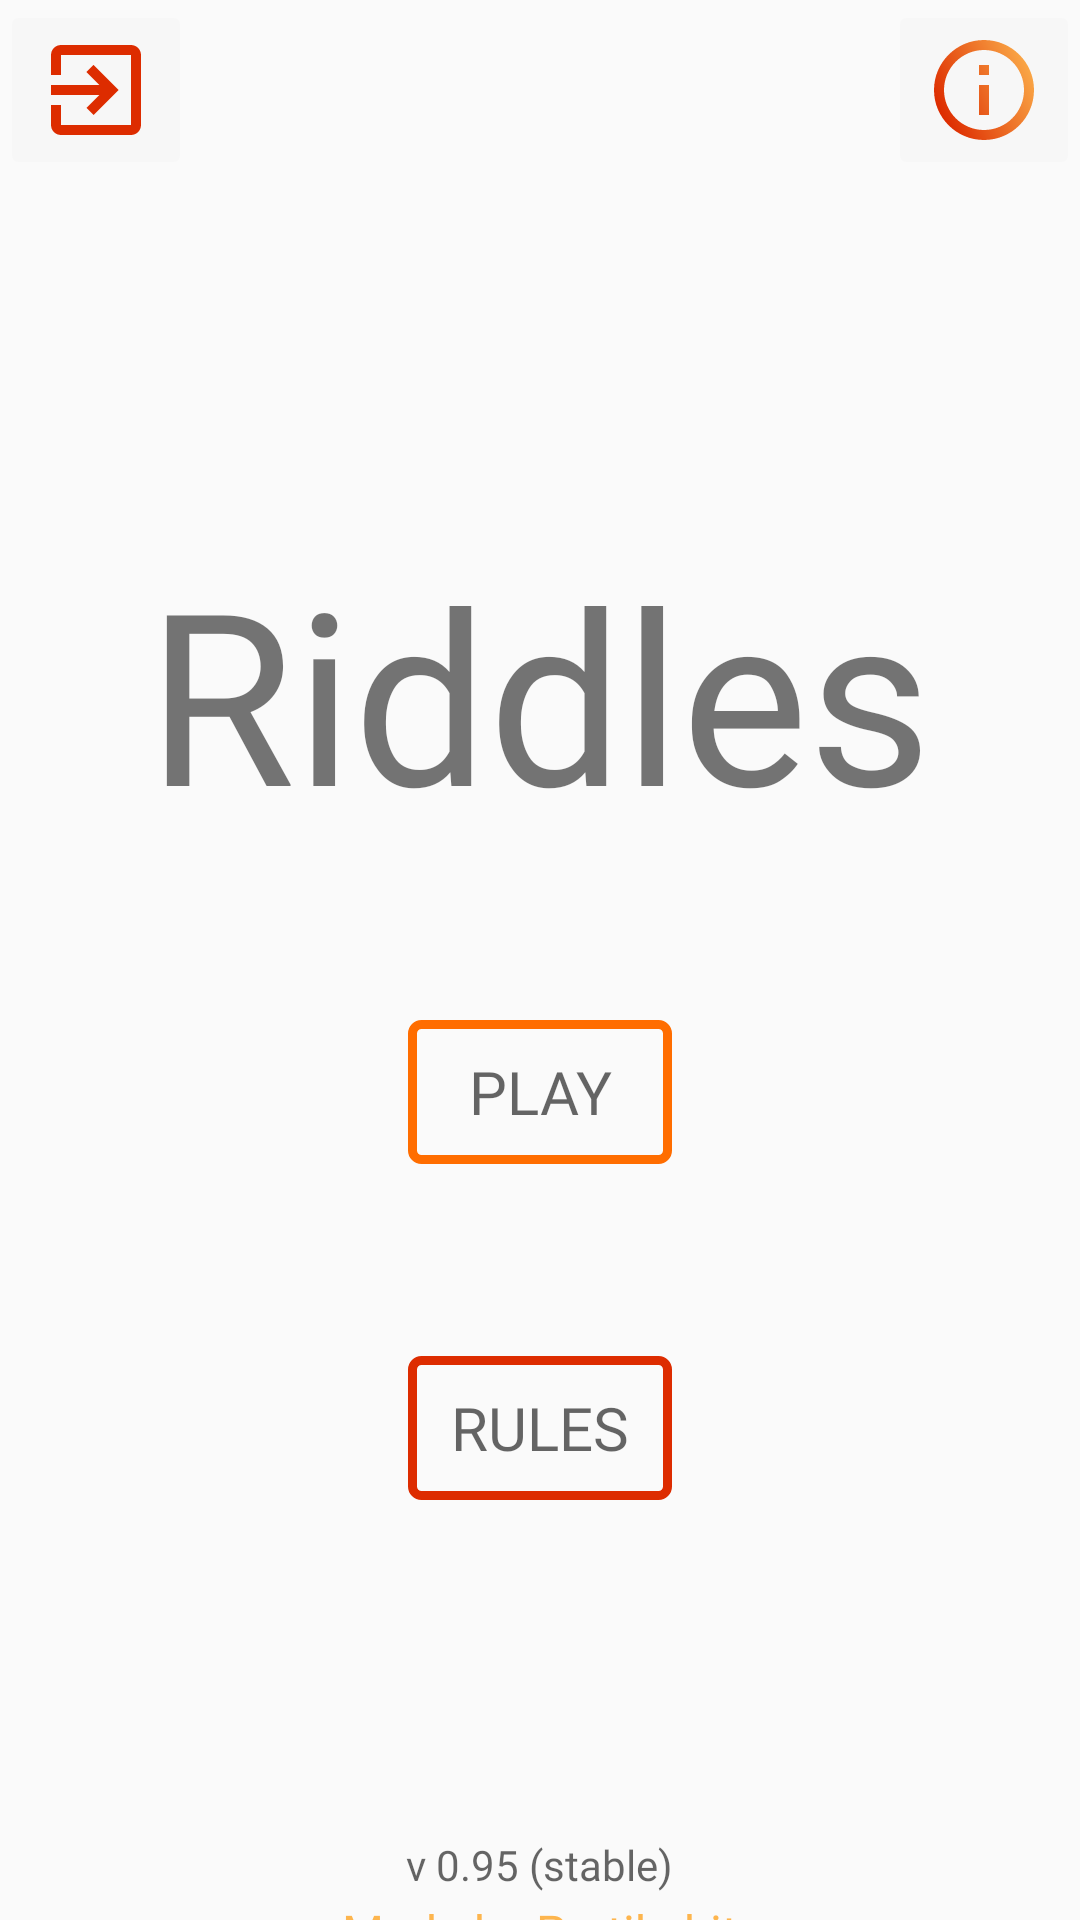

Screen size 1080*1920. Icon name, then its box in pixels as (left=x1, top=y1, right=x2, bottom=y2):
about: (left=934, top=40, right=1034, bottom=140)
exit: (left=51, top=45, right=141, bottom=135)
